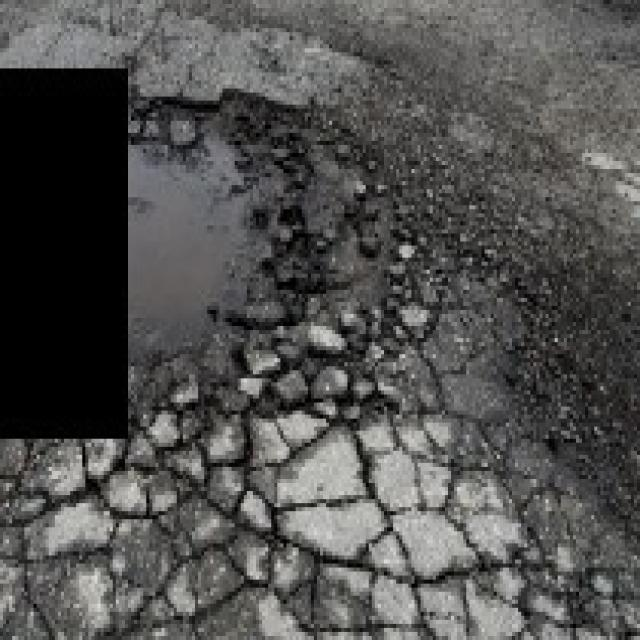road-pothole: (124, 93, 466, 391)
